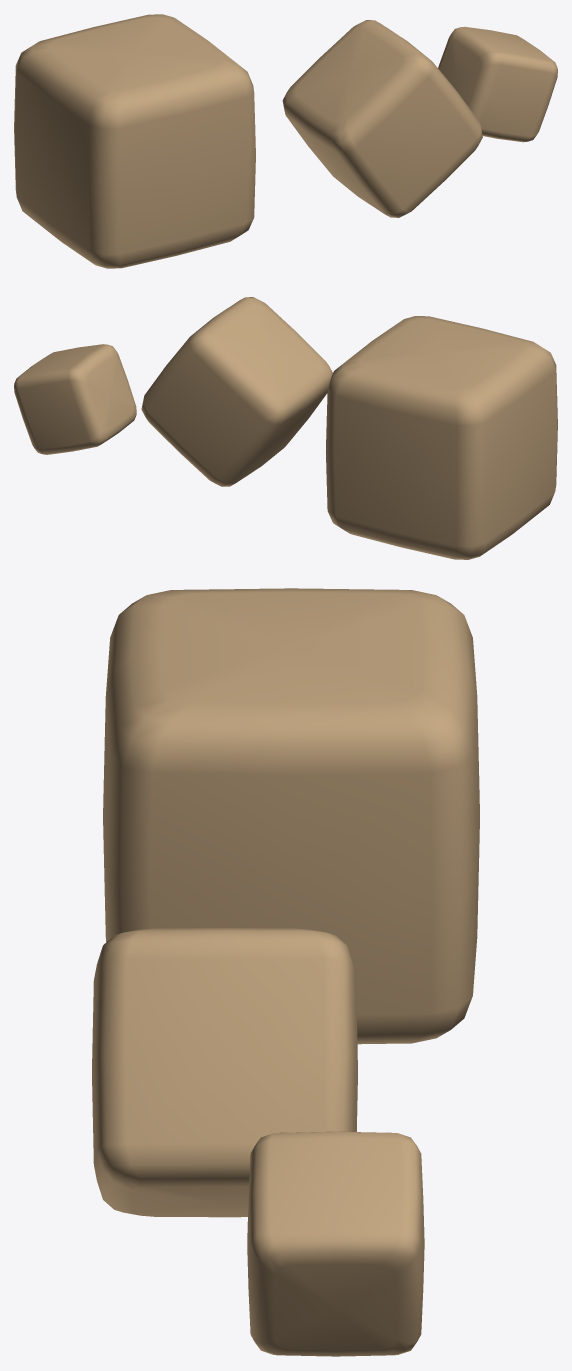
File: rubble.fbx
The picture shows the model from 3 angles, top to bottom: view 1: azimuth 30°, elevation 25°; view 2: azimuth 150°, elevation 25°; view 3: azimuth 270°, elevation 25°; orthographic projection. The views are drawn at different scales.
Parts seen in each view (by area): view 1: rubble_mesh; view 2: rubble_mesh; view 3: rubble_mesh.
Boxes of the visible parts, bbox=[...] form: rubble_mesh: bbox=[14, 14, 557, 268]; rubble_mesh: bbox=[14, 297, 557, 559]; rubble_mesh: bbox=[92, 588, 479, 1356].
Size of the model in its own units: 0.5023 by 0.1804 by 0.175.
